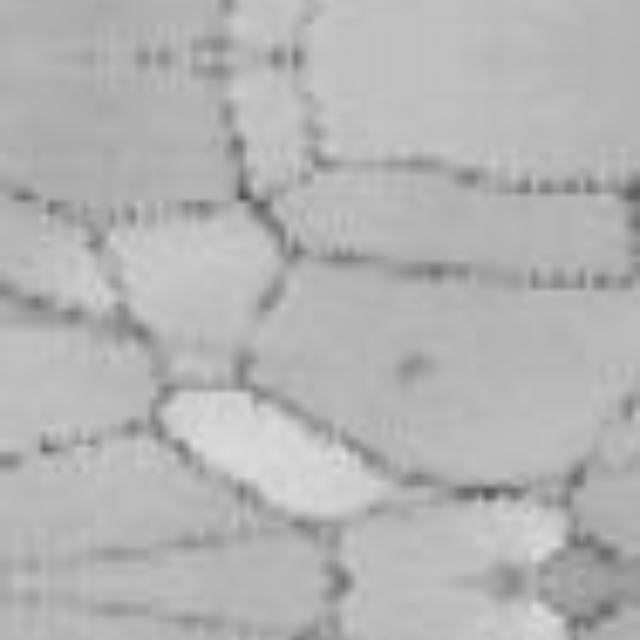good_void: (389, 350, 437, 392)
